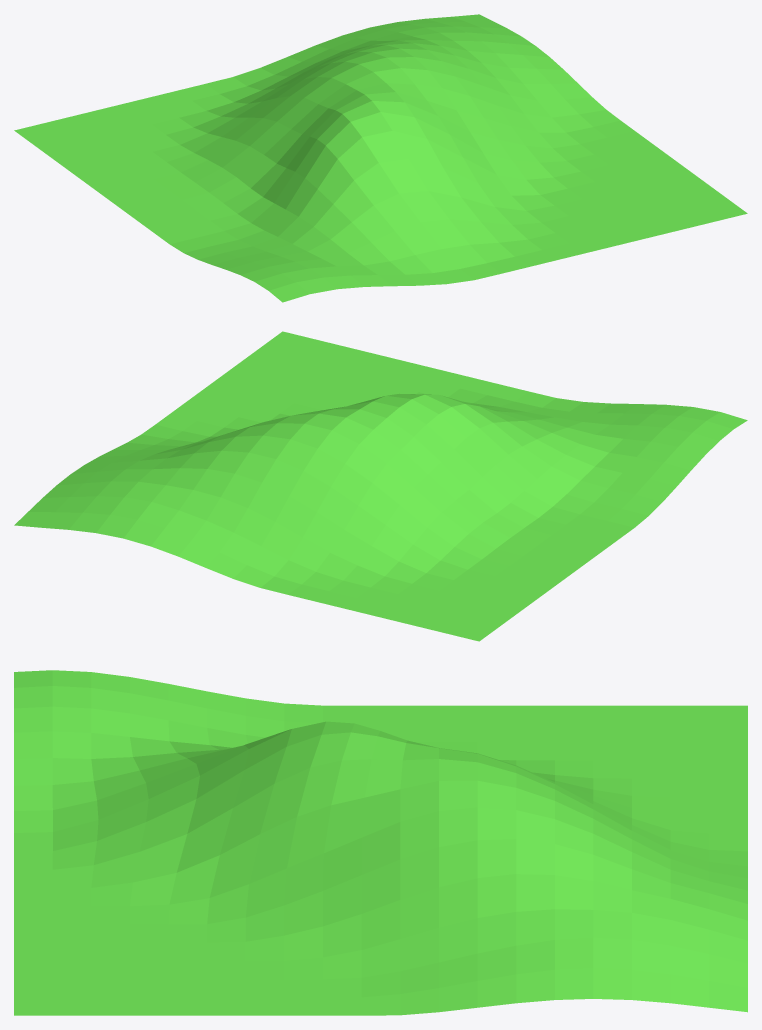
The model's file is dangplane.glb.
3 views of the same model, one above another, from view 1: azimuth 30°, elevation 25°; view 2: azimuth 150°, elevation 25°; view 3: azimuth 270°, elevation 25° (orthographic). The views are drawn at different scales.
Visible parts, largest first — view 1: Plane; view 2: Plane; view 3: Plane.
Part boxes in pixels (box(x1,y1,x2,y2)): Plane: box(14, 14, 747, 302); Plane: box(14, 331, 747, 641); Plane: box(14, 670, 747, 1015).
Bounding box in the file's own units: 100 × 17.28 × 100.
